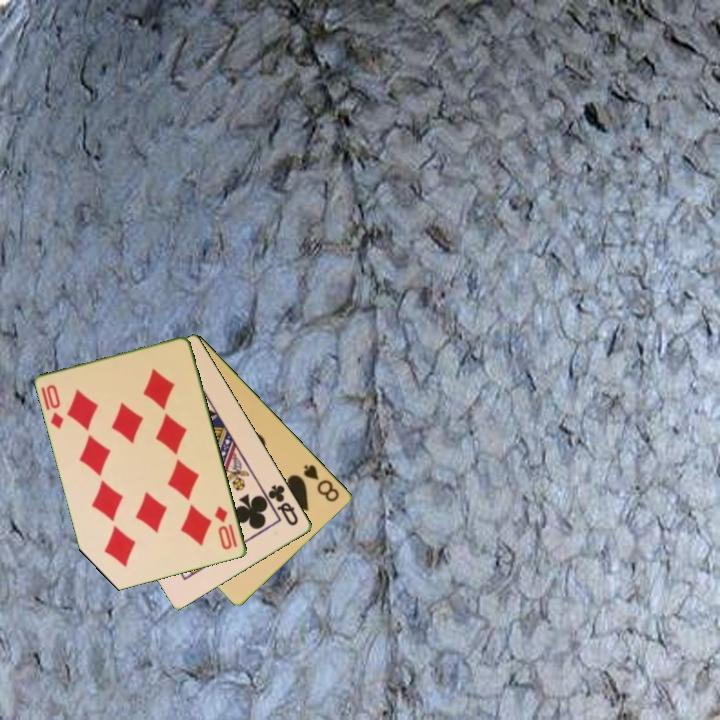10d: (211, 502, 241, 553), (43, 381, 67, 432)
8s: (300, 461, 343, 505)
Qc: (265, 481, 302, 529)
